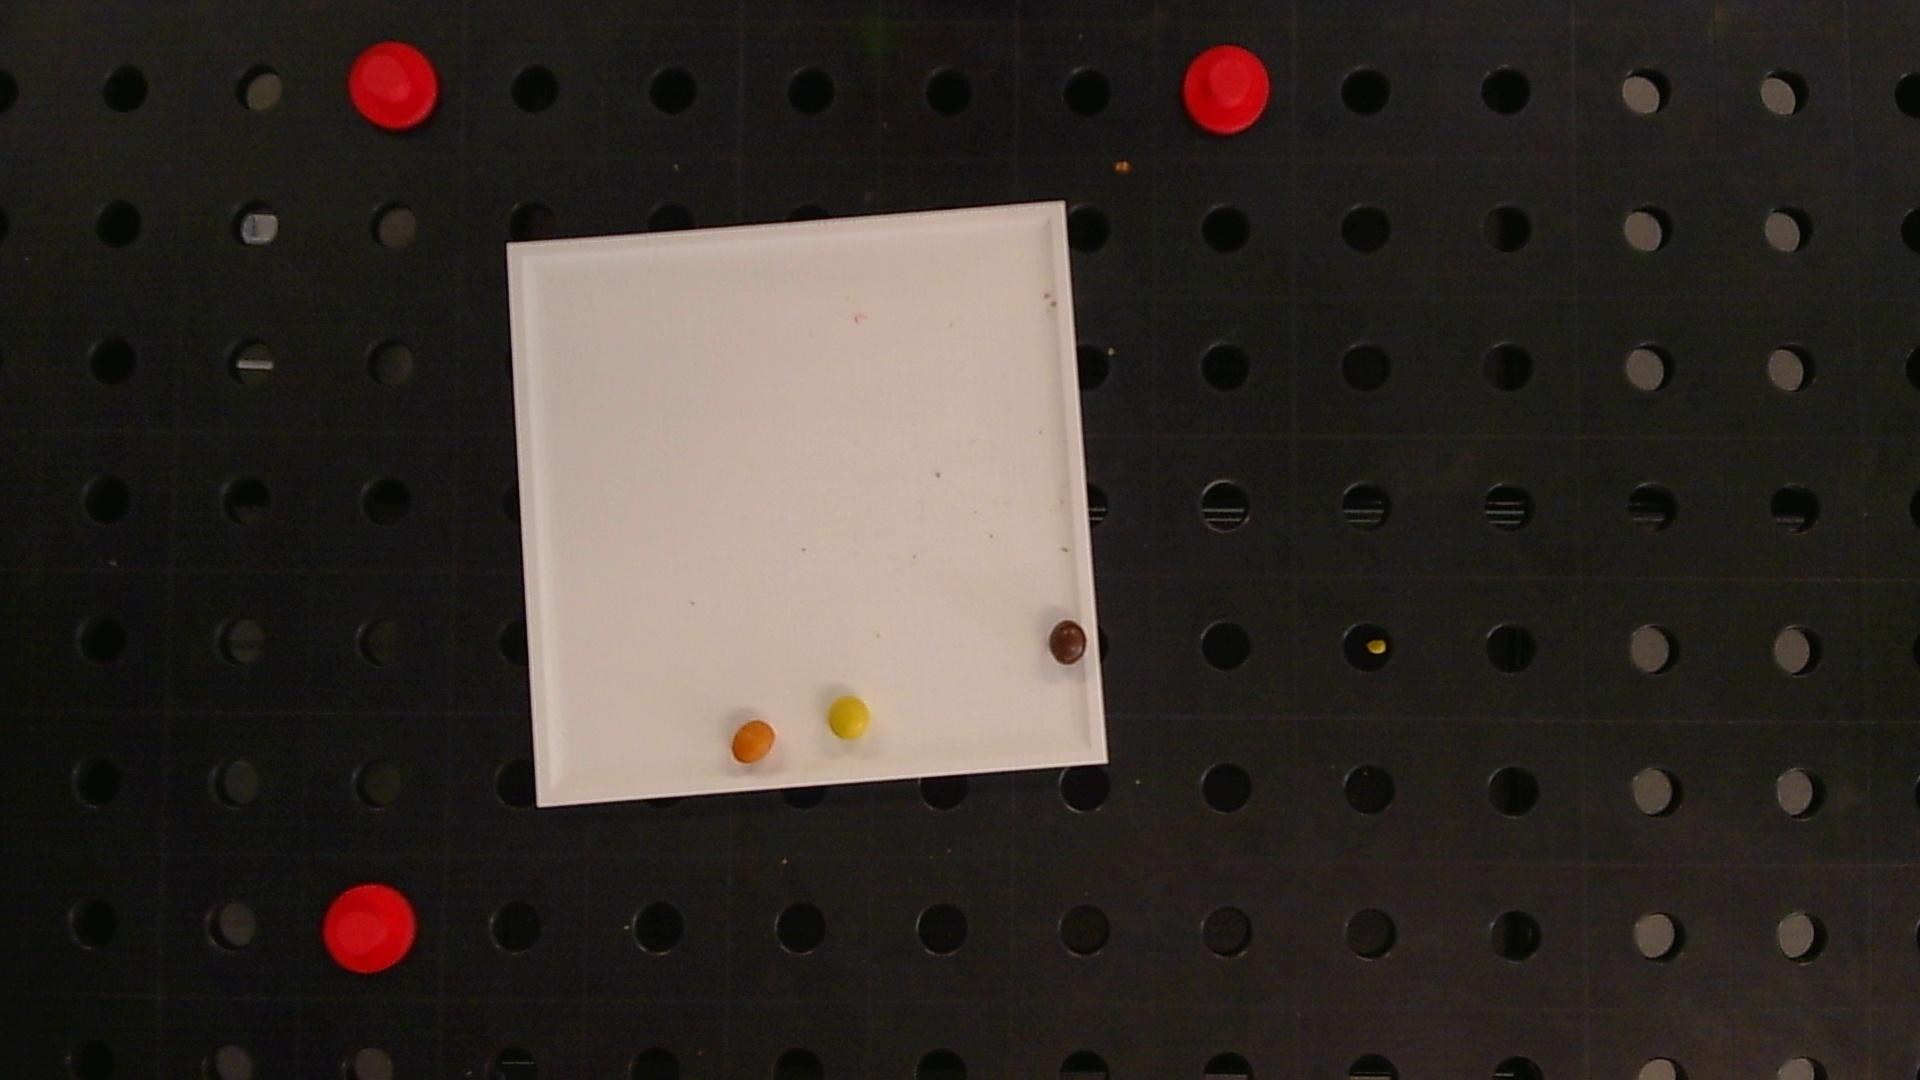brown: (1048, 620, 1088, 665)
orange: (732, 720, 775, 764)
yellow: (828, 696, 870, 740)
